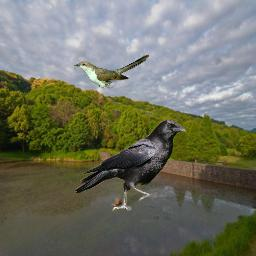Crow: (75, 119, 189, 212)
Cuckoo: (74, 54, 149, 88)
